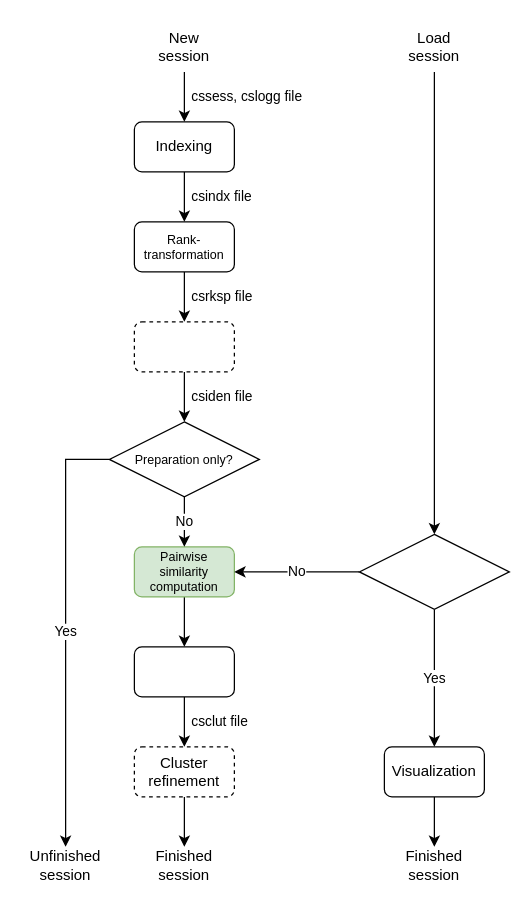
This 531x905 diagram has some shape labels left out. Each missing label, with the centre of its shape:
Cluster finding: (183,671)
Finished session?: (433,571)
Identification import: (183,346)
